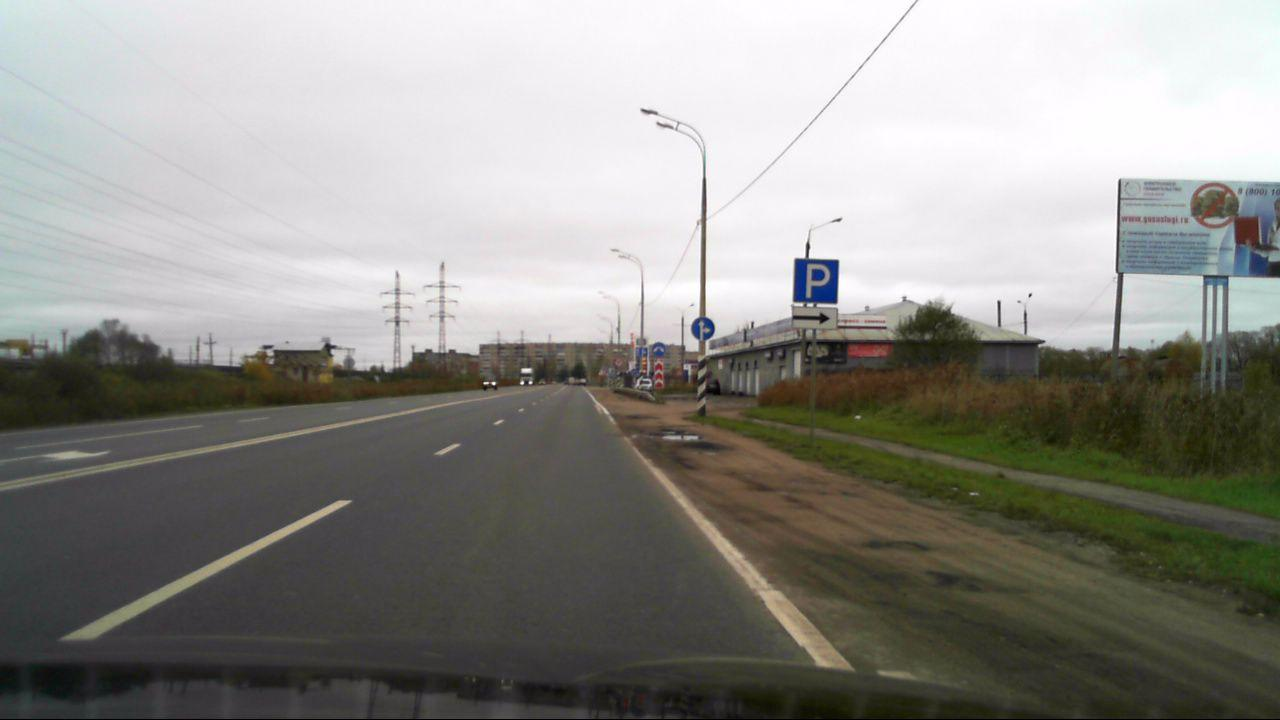4_1_4: (688, 316, 715, 340)
4_2_3: (652, 341, 666, 356)
6_4: (793, 257, 840, 305)
8_22_3: (653, 359, 665, 388)
8_3_1: (791, 307, 838, 330)
